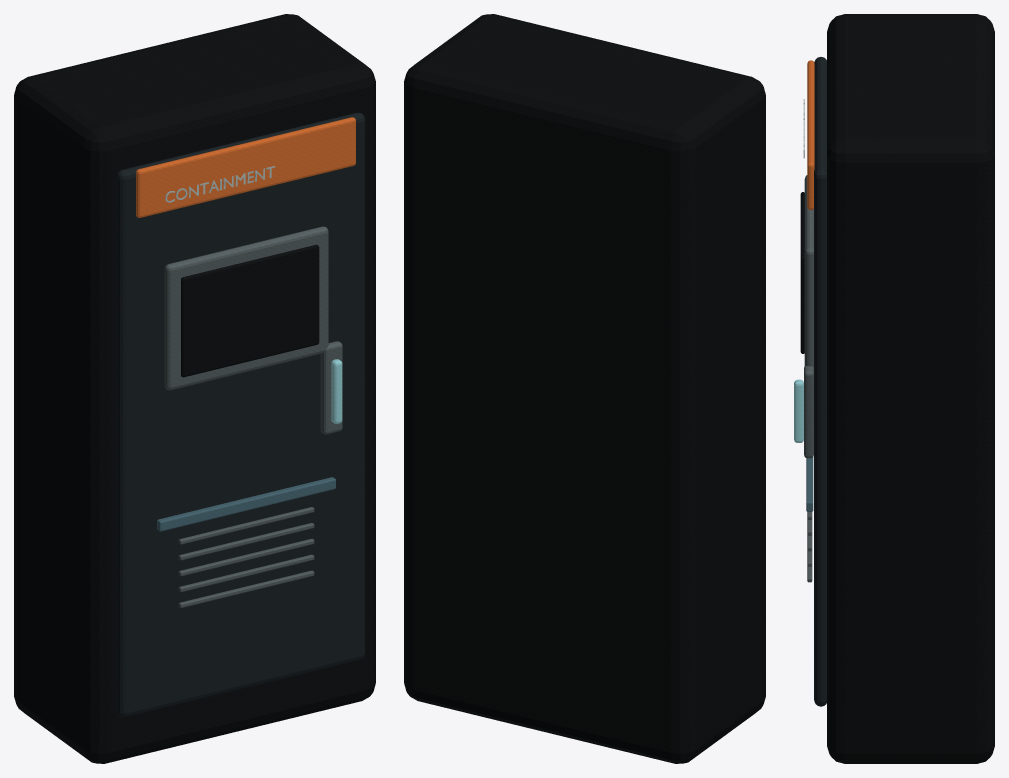
The model's file is ContainmentCabinet.glb.
3 views of the same model, side by side, from view 1: azimuth 30°, elevation 25°; view 2: azimuth 150°, elevation 25°; view 3: azimuth 270°, elevation 25° (orthographic).
Visible parts, largest first — view 1: ContainmentCabinet_Mesh; view 2: ContainmentCabinet_Mesh; view 3: ContainmentCabinet_Mesh.
Part boxes in pixels (x1,y1,x2,y2): ContainmentCabinet_Mesh: [14, 14, 375, 763]; ContainmentCabinet_Mesh: [404, 14, 765, 763]; ContainmentCabinet_Mesh: [794, 14, 994, 763].
Size of the model in its own units: 0.82 by 1.72 by 0.5025.
7 materials, 7 textured.
